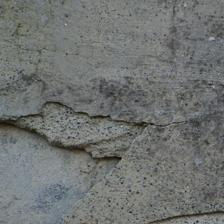Crack: (9, 26, 120, 139), (57, 6, 132, 118), (144, 63, 224, 149), (0, 37, 83, 56)
